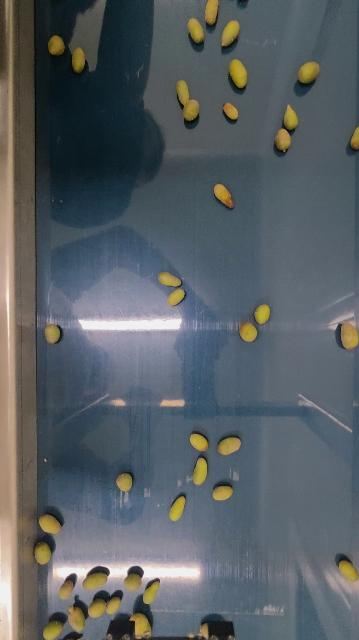Baby Potato: (228, 58, 250, 90), (219, 18, 241, 48), (212, 182, 236, 209), (129, 611, 151, 639), (339, 320, 359, 350), (297, 60, 322, 84), (217, 434, 243, 457), (191, 456, 210, 487), (82, 570, 109, 591), (186, 17, 207, 44), (168, 494, 187, 523), (337, 557, 359, 582), (68, 604, 87, 632), (38, 513, 61, 535), (175, 76, 193, 104), (203, 0, 222, 26), (282, 103, 300, 130), (157, 270, 184, 288), (70, 46, 87, 74), (34, 540, 52, 566), (189, 431, 210, 453), (42, 619, 64, 640), (238, 320, 258, 343), (143, 578, 160, 605), (211, 483, 235, 502), (182, 98, 201, 122), (274, 127, 292, 152), (166, 285, 186, 307), (47, 34, 66, 56), (254, 302, 272, 325), (87, 597, 106, 618), (115, 471, 133, 492), (44, 323, 61, 345), (123, 572, 142, 591), (105, 595, 122, 615), (222, 101, 239, 120), (59, 579, 74, 600), (349, 123, 359, 149), (59, 636, 82, 640), (237, 0, 249, 1)
